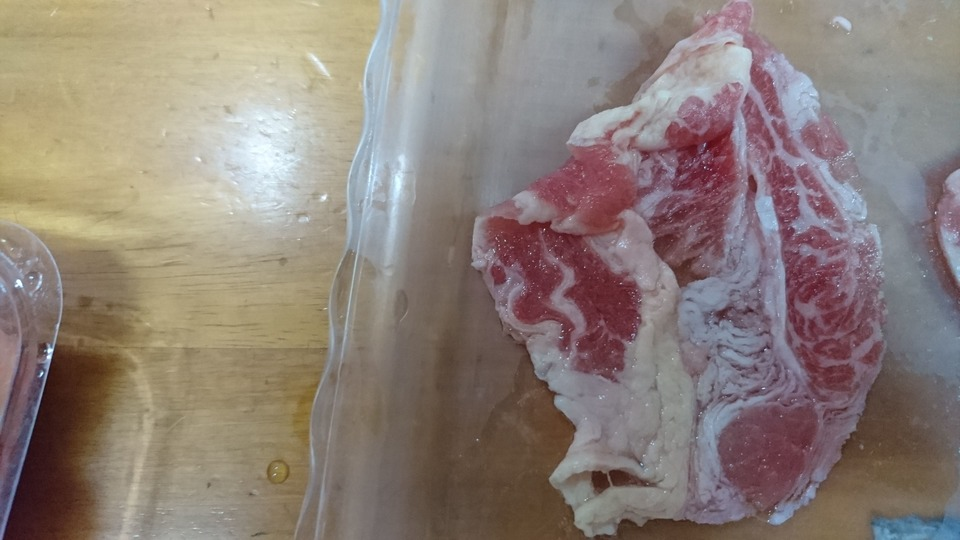restructured meat: (484, 37, 881, 519)
